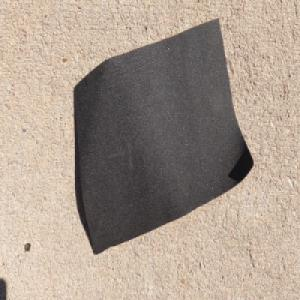PaintChip: (72, 21, 253, 258)
